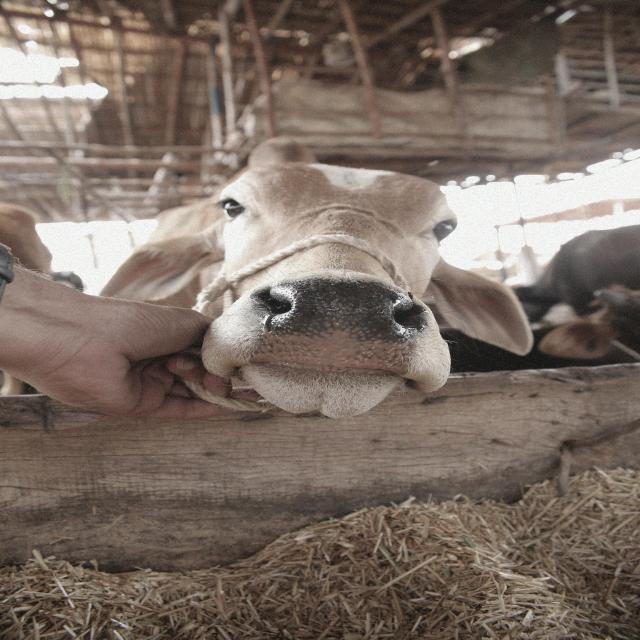muzzles: (239, 270, 435, 382)
